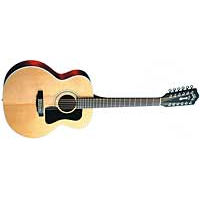guitar: (1, 60, 200, 140)
